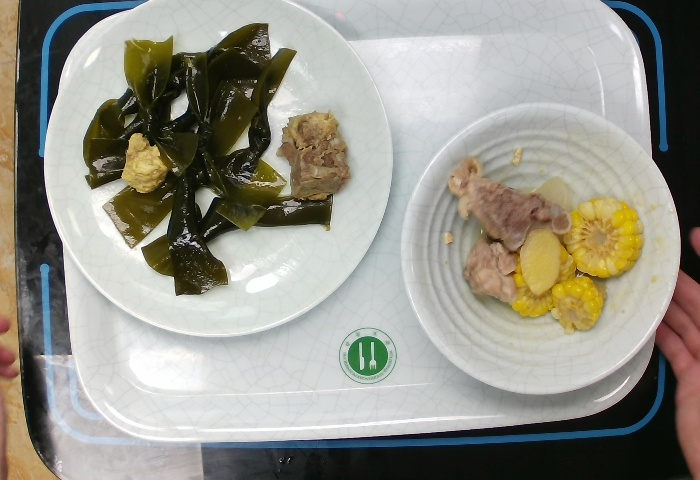JYsf-Da_Yuan_Pan: (41, 1, 395, 341)
JYsf-Xiao_Tang_Wan: (398, 101, 684, 397)
